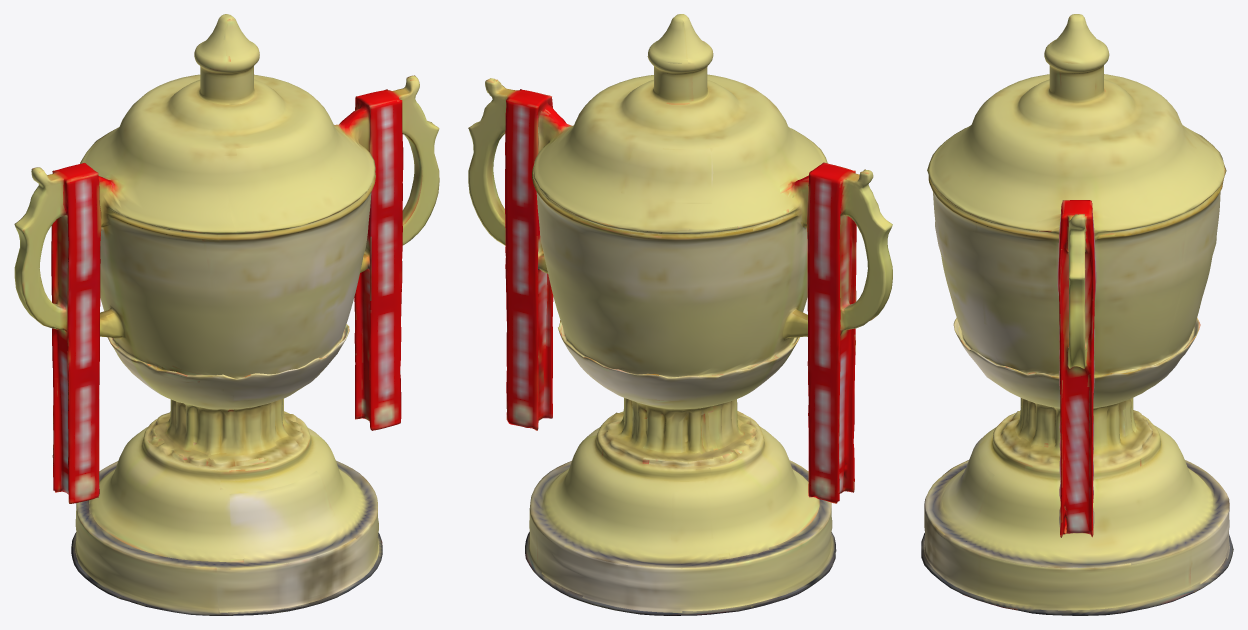
Rendered from trophy-mobile.glb.
3 views of the same model, side by side, from view 1: azimuth 30°, elevation 25°; view 2: azimuth 150°, elevation 25°; view 3: azimuth 270°, elevation 25° (orthographic).
Parts seen in each view (by area): view 1: model; view 2: model; view 3: model.
Part boxes in pixels (bbox=[...]): model: bbox=[14, 14, 439, 615]; model: bbox=[468, 14, 892, 615]; model: bbox=[921, 14, 1233, 615].
Size of the model in its own units: 1.55 by 1.9 by 1.01.
1 material, 1 textured.
